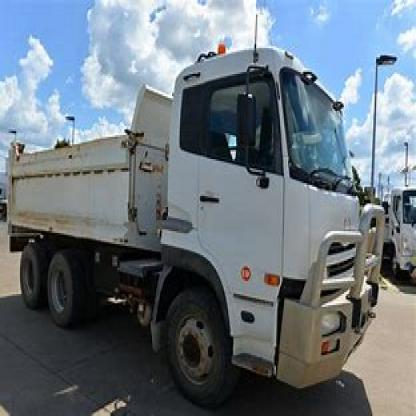dump_truck: (6, 39, 386, 407)
